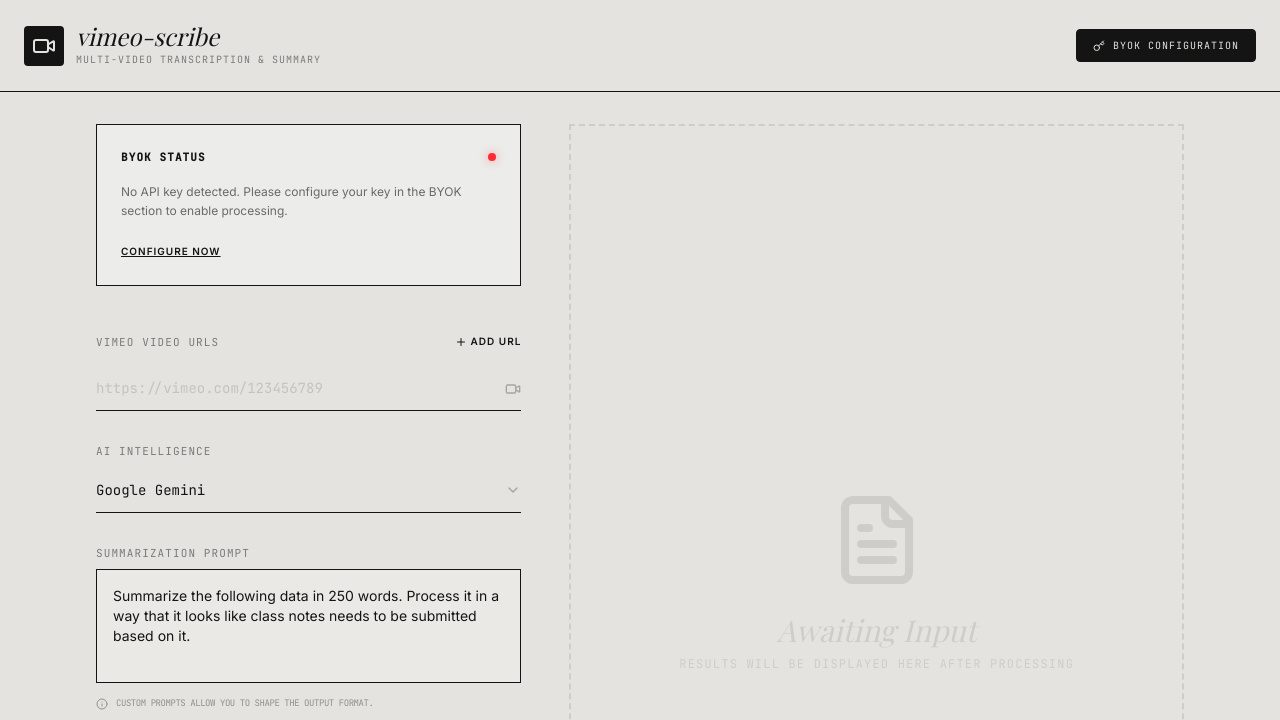
Scenario: App Component › updates summarize prompt when typed
Type "Summarize this video" into the text box with placeholder "Enter custom instructions for the AI...". click: point(309, 626)
box: [96,569,521,683]
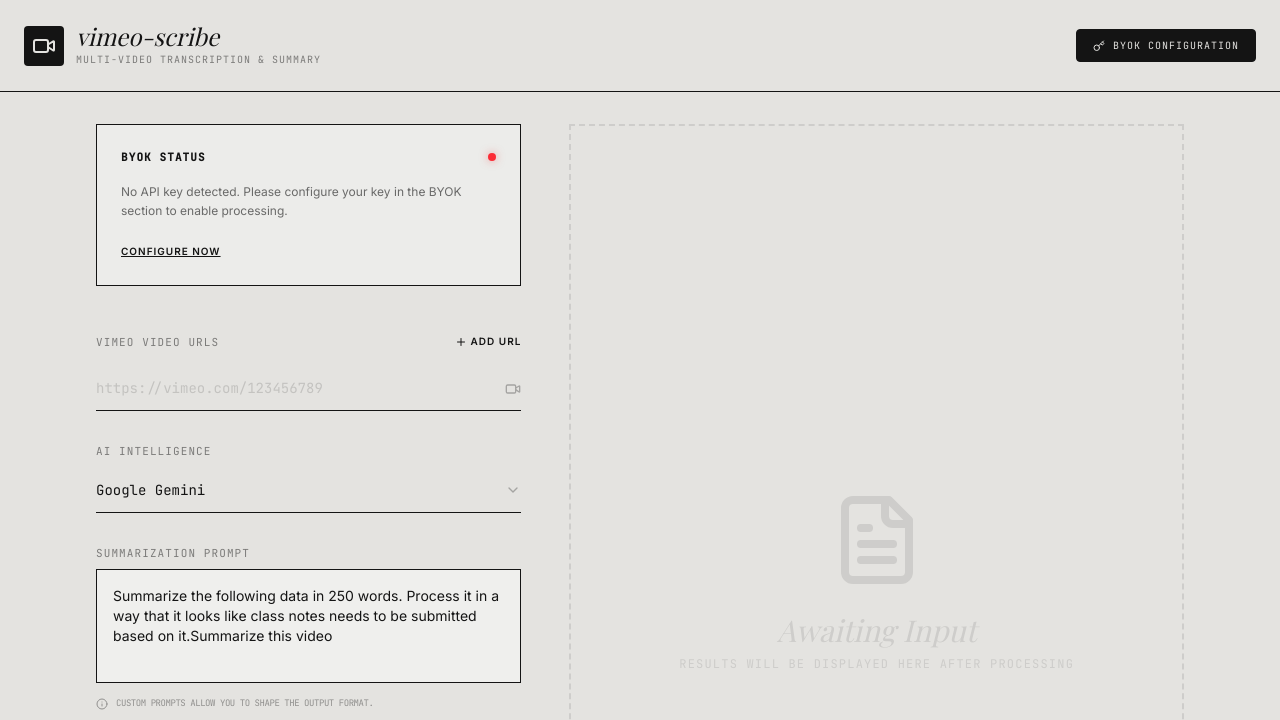
Result: the text box with placeholder "Enter custom instructions for the AI..." holds "Summarize the following data in 250 words. Process it in a way that it looks like class notes needs to be submitted based on it.Summarize this video" at [96,569,521,683]
